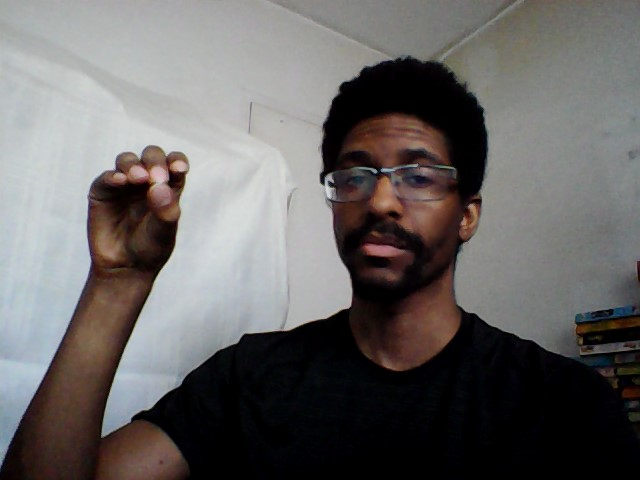o: (81, 139, 195, 270)
